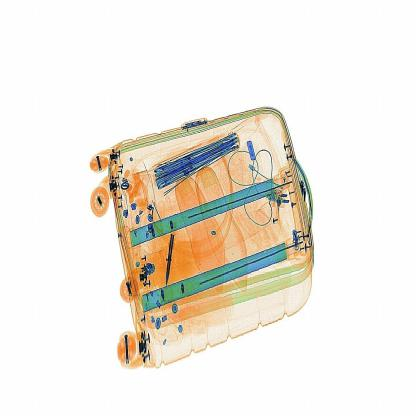gun: (151, 214, 185, 301)
